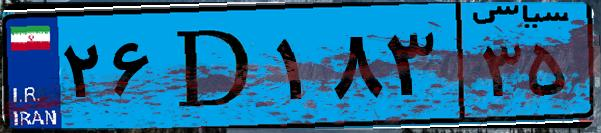1: (270, 28, 330, 110)
2: (57, 26, 110, 100)
3: (385, 28, 445, 110), (475, 38, 525, 113)
5: (525, 38, 570, 115)
6: (110, 28, 158, 98)
8: (330, 28, 385, 110)
D: (158, 12, 270, 120)
